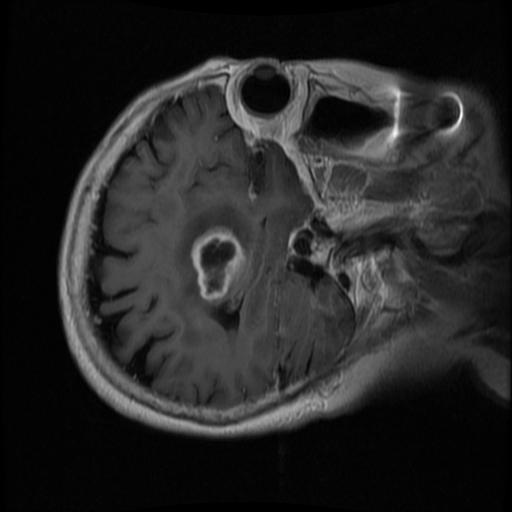glioma: (189, 226, 246, 301)
